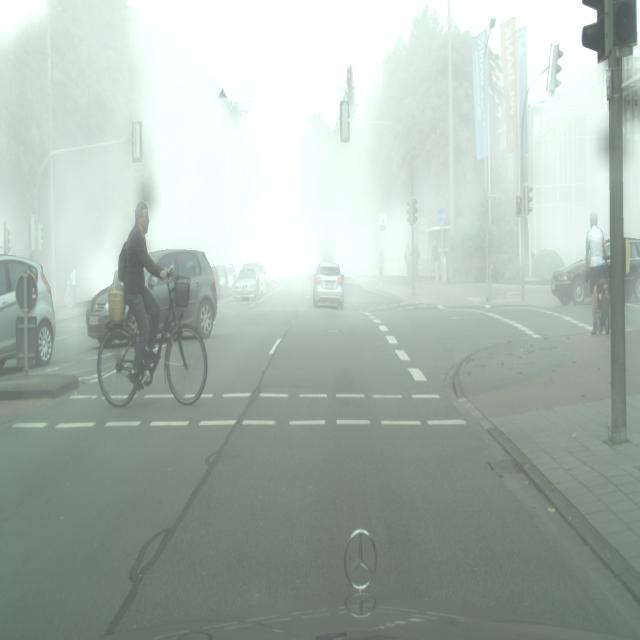bicycle: (550, 238, 640, 305)
bus: (0, 254, 56, 371), (551, 239, 638, 306), (155, 248, 218, 338), (312, 261, 344, 309), (234, 264, 261, 302), (213, 264, 229, 299), (225, 264, 236, 293), (256, 263, 267, 291)
car: (97, 202, 208, 407)
person: (585, 209, 608, 321), (66, 264, 76, 306), (431, 236, 440, 282)
